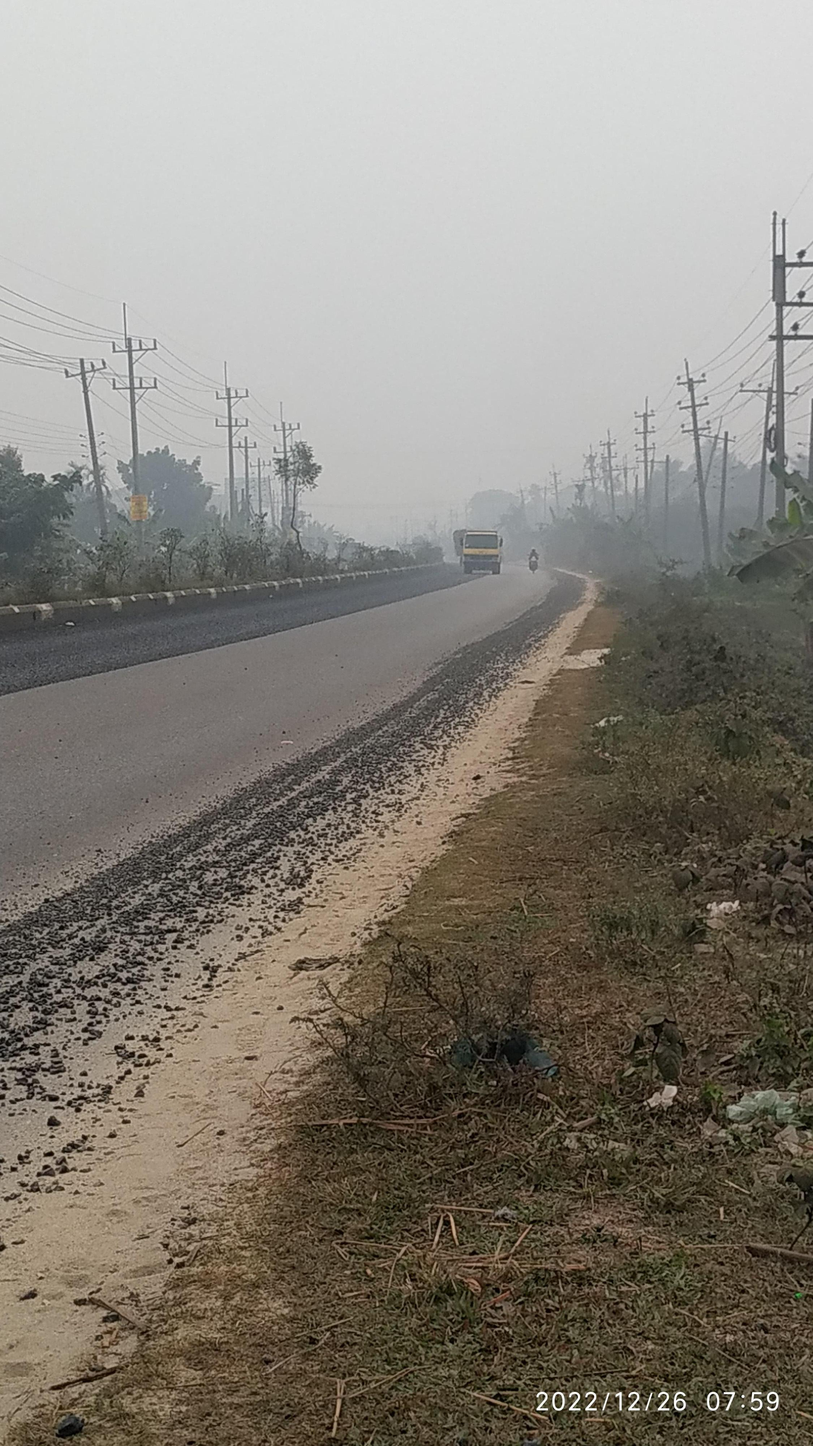Bike: (522, 529, 554, 586)
Truck: (446, 509, 516, 593)
